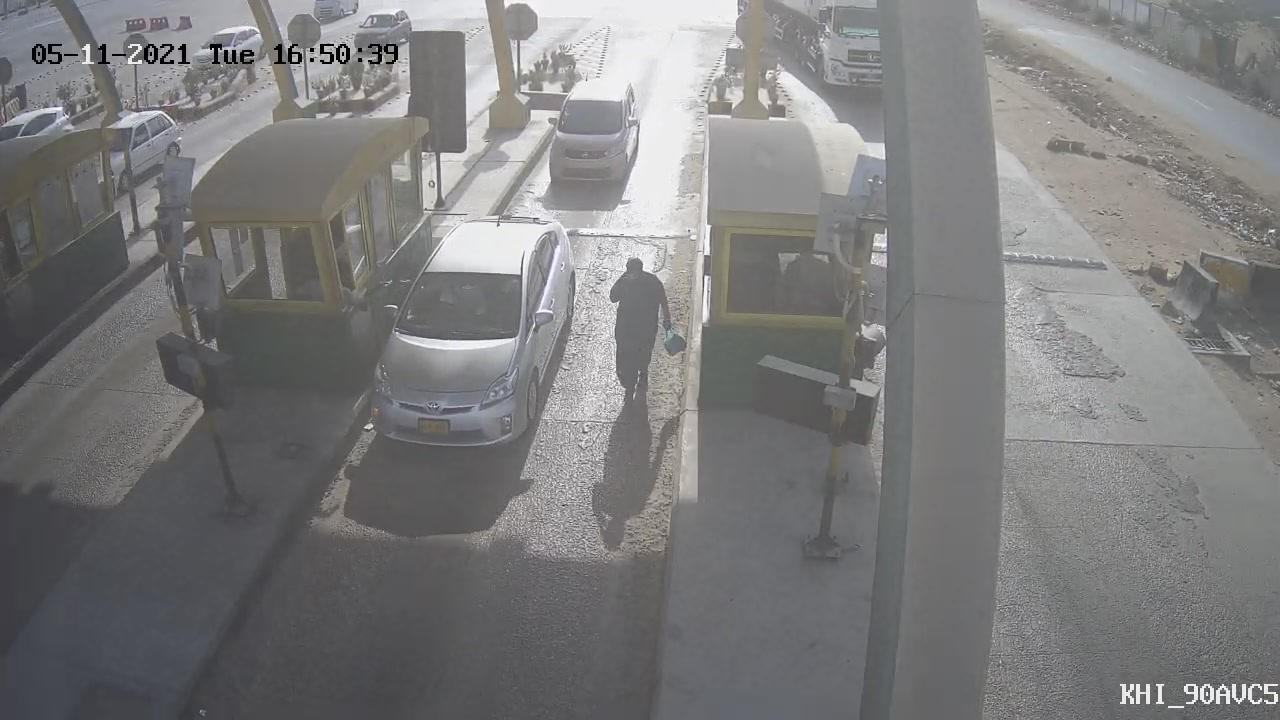F1: (347, 199, 600, 469), (520, 68, 657, 207)
